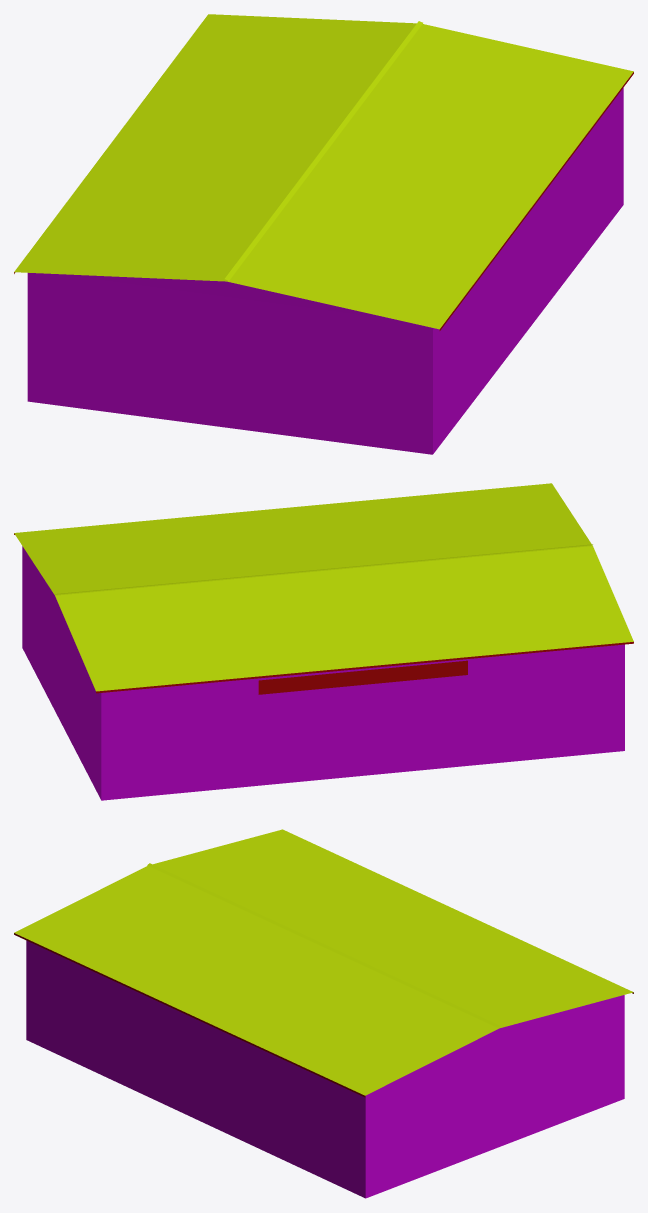
3 renders of one model, top to bottom at view 1: azimuth 30°, elevation 25°; view 2: azimuth 150°, elevation 25°; view 3: azimuth 270°, elevation 25°, orthographic. The views are drawn at different scales.
Parts seen in each view (by area): view 1: sc_16; view 2: sc_16; view 3: sc_16.
Part boxes in pixels (<box>): sc_16: <box>14,14,633,454</box>; sc_16: <box>14,483,633,800</box>; sc_16: <box>14,829,633,1198</box>.
Size of the model in its own units: 37.83 by 8.23 by 37.2.
